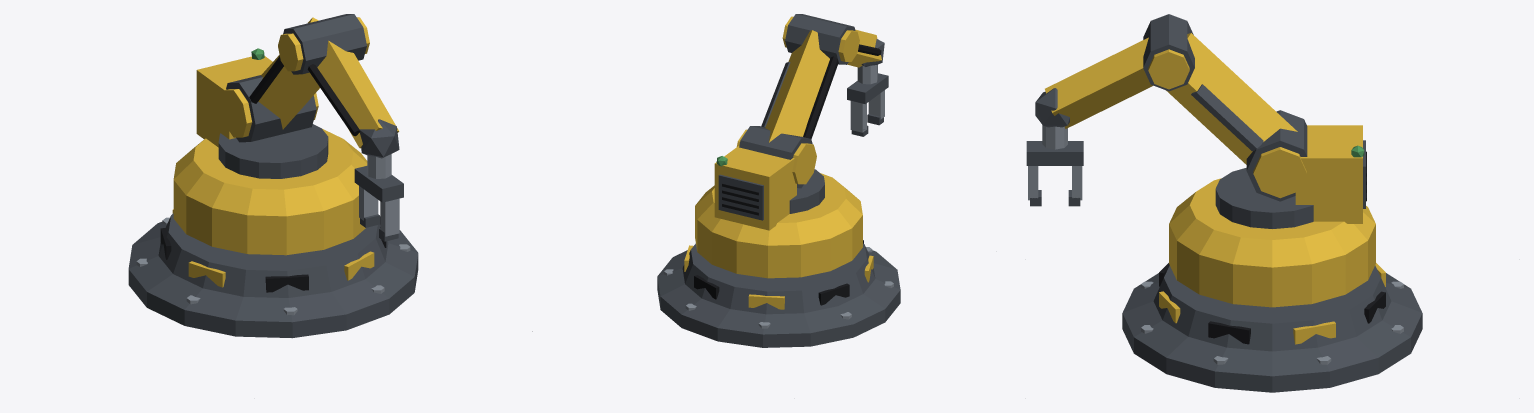
File: bras_t2.glb
The picture shows the model from 3 angles, left to right: view 1: azimuth 30°, elevation 25°; view 2: azimuth 150°, elevation 25°; view 3: azimuth 270°, elevation 25°; orthographic projection. The views are drawn at different scales.
Parts seen in each view (by area): view 1: socle_embase.004, tourelle_corps.004, tourelle_acier_sombre.006, tourelle_jaune.002, tourelle_acier.006, tourelle_noir.006, socle_jaune.004, socle_noir.006, socle_acier.006; view 2: socle_embase.004, tourelle_corps.004, tourelle_jaune.002, tourelle_acier_sombre.006, tourelle_noir.006, tourelle_acier.006, socle_jaune.004, socle_noir.006; view 3: socle_embase.004, tourelle_jaune.002, tourelle_corps.004, tourelle_acier_sombre.006, tourelle_acier.006, socle_noir.006, socle_jaune.004, socle_acier.006.
Boxes of the visible parts, x1,y1,x2,y2 form: socle_embase.004: (128, 213, 418, 338); tourelle_corps.004: (173, 128, 367, 255); tourelle_acier_sombre.006: (218, 14, 403, 241); tourelle_jaune.002: (196, 17, 399, 148); tourelle_acier.006: (359, 154, 399, 236); tourelle_noir.006: (249, 56, 360, 136); socle_jaune.004: (172, 209, 374, 287); socle_noir.006: (160, 216, 386, 292); socle_acier.006: (136, 217, 410, 315); socle_embase.004: (657, 243, 900, 347); tourelle_corps.004: (695, 173, 862, 278); tourelle_jaune.002: (714, 16, 881, 230); tourelle_acier_sombre.006: (718, 14, 888, 220); tourelle_noir.006: (722, 44, 881, 215); tourelle_acier.006: (850, 64, 884, 132); socle_jaune.004: (684, 245, 873, 309); socle_noir.006: (694, 240, 863, 305); socle_embase.004: (1122, 265, 1422, 392); tourelle_jaune.002: (1045, 33, 1362, 223); tourelle_corps.004: (1169, 178, 1375, 307); tourelle_acier_sombre.006: (1026, 14, 1365, 228); tourelle_acier.006: (1028, 125, 1082, 200); socle_noir.006: (1159, 263, 1385, 344); socle_jaune.004: (1159, 263, 1385, 344); socle_acier.006: (1141, 281, 1403, 364).
Size of the model in its own units: 1 by 1 by 1.5.
